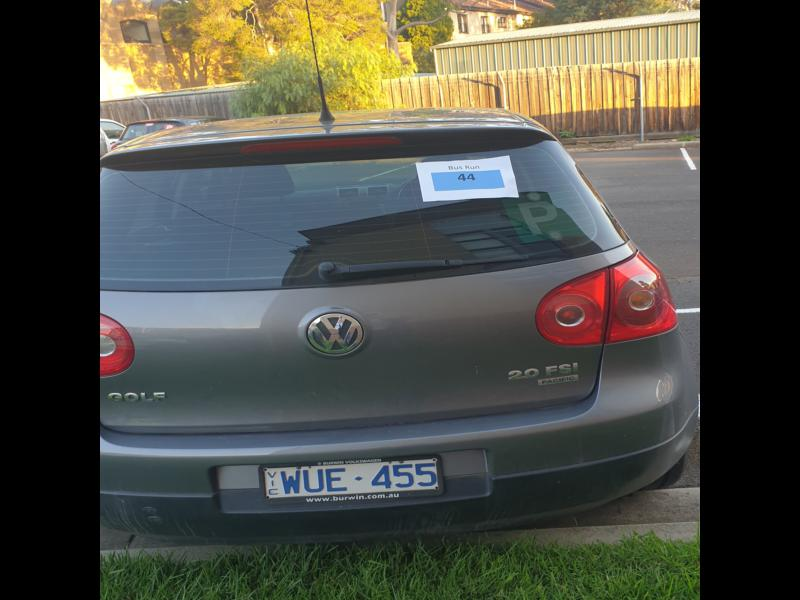BusRun: (430, 169, 504, 191)
PlateNo: (259, 457, 441, 491)
